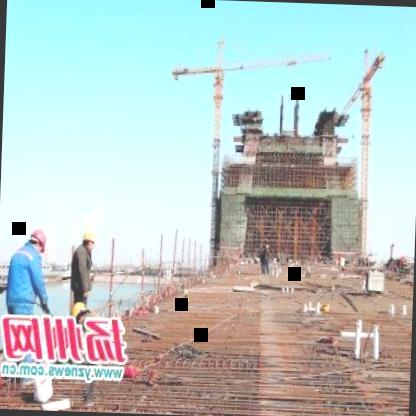helmet: (25, 226, 48, 258), (79, 227, 99, 257), (70, 302, 90, 325)
